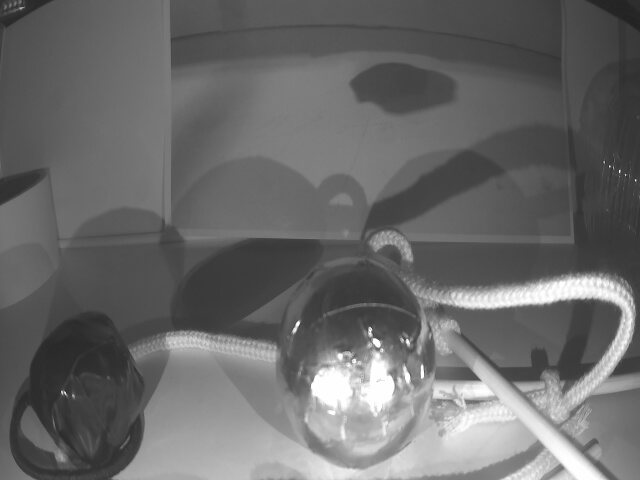Dead: (25, 312, 148, 457)
Live: (275, 253, 433, 473)
